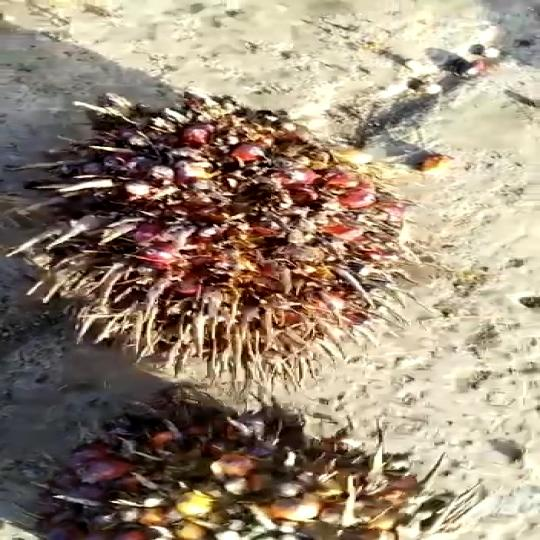terlalu masak: (29, 75, 433, 383)
